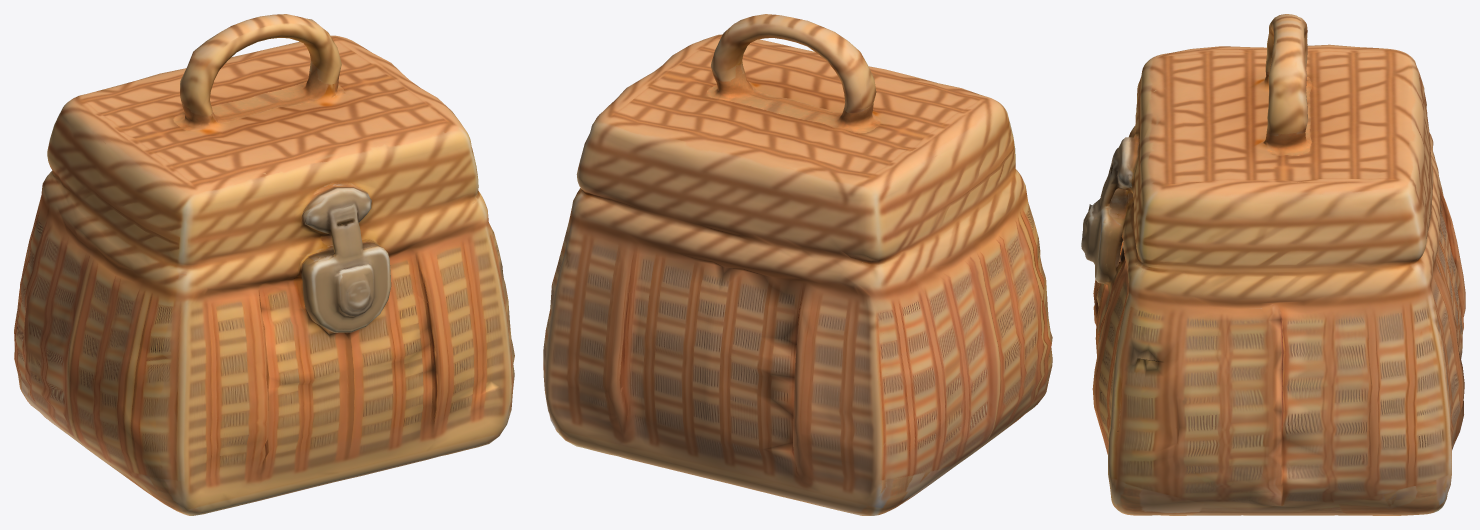
File: WovenElegance.glb
3 renders of one model, left to right at view 1: azimuth 30°, elevation 25°; view 2: azimuth 150°, elevation 25°; view 3: azimuth 270°, elevation 25°, orthographic. The views are drawn at different scales.
Size of the model in its own units: 1.9 by 1.85 by 1.56.
1 material, 1 textured.
